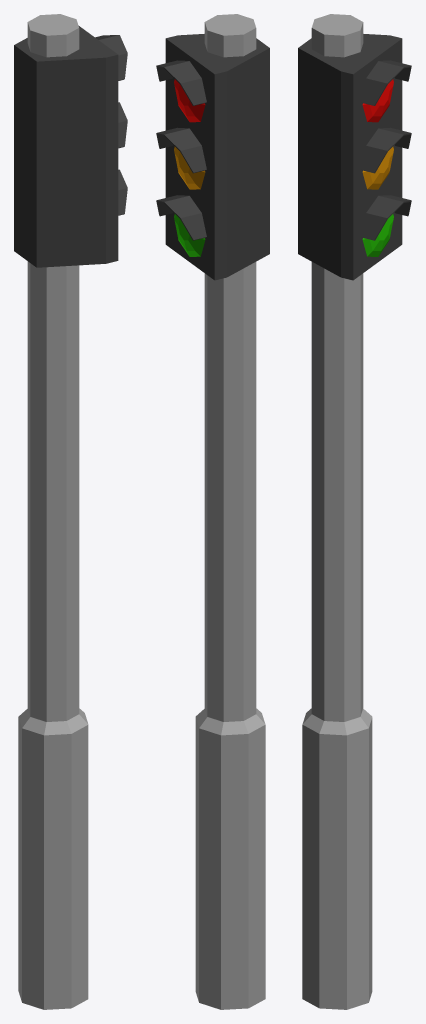
Rendered from traffic_light.glb.
3 views of the same model, side by side, from view 1: azimuth 30°, elevation 25°; view 2: azimuth 210°, elevation 25°; view 3: azimuth 330°, elevation 25° (orthographic).
Visible parts, largest first — view 1: Circle, Cube, Circle.001; view 2: Circle, Cube, Circle.001; view 3: Circle, Cube, Circle.001.
Boxes of the visible parts, x1,y1,x2,y2 form: Circle: (18, 14, 88, 1009); Cube: (14, 25, 118, 267); Circle.001: (95, 35, 127, 215); Circle: (195, 14, 265, 1009); Cube: (165, 34, 269, 280); Circle.001: (156, 60, 206, 256); Circle: (302, 14, 372, 1009); Cube: (298, 34, 402, 280); Circle.001: (361, 60, 411, 256).
Size of the model in its own units: 0.3724 by 3.53 by 0.3245.
